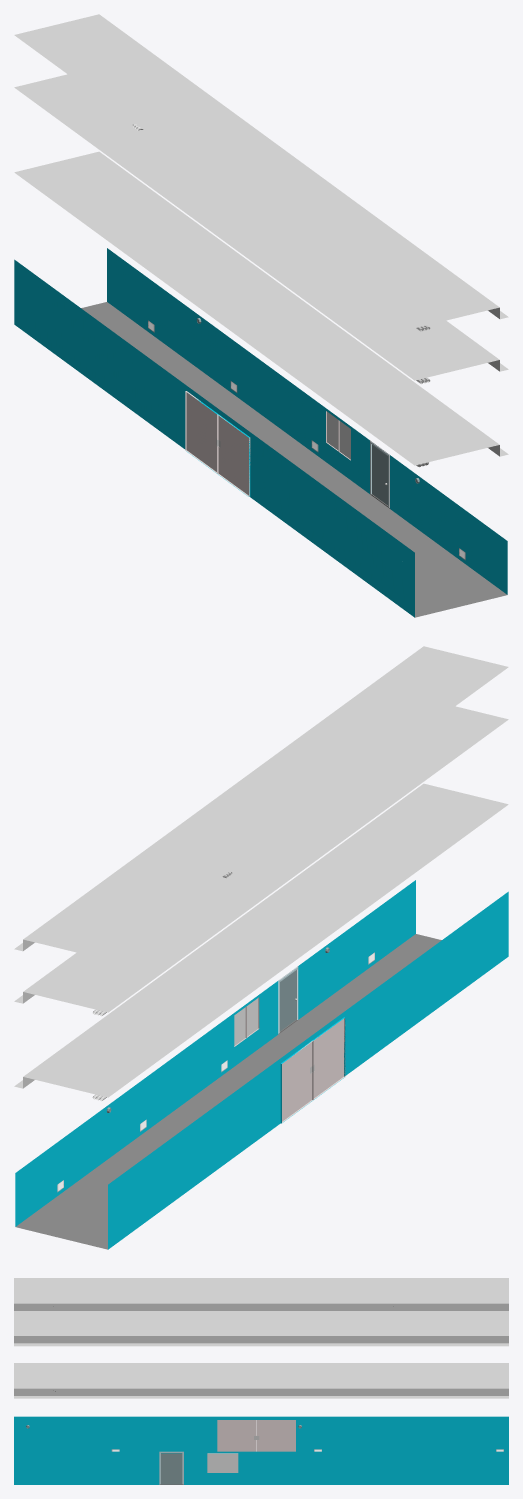
File: Corredor1 (1).fbx
The picture shows the model from 3 angles, top to bottom: view 1: azimuth 30°, elevation 25°; view 2: azimuth 150°, elevation 25°; view 3: azimuth 270°, elevation 25°; orthographic projection. The views are drawn at different scales.
Visible parts, largest first — view 1: paredes, TetoFinal, TetoComeco, TetoMeio, Chao, porta; view 2: paredes, TetoComeco, TetoFinal, TetoMeio, Chao, porta; view 3: paredes, TetoComeco, TetoFinal, TetoMeio, porta.
Boxes of the visible parts, x1,y1,x2,y2 form: paredes: (14, 248, 507, 617); TetoFinal: (14, 14, 508, 328); TetoComeco: (14, 151, 508, 465); TetoMeio: (14, 74, 508, 380); Chao: (81, 302, 506, 617); porta: (372, 445, 388, 505); paredes: (15, 880, 508, 1249); TetoComeco: (14, 783, 508, 1097); TetoFinal: (14, 646, 508, 960); TetoMeio: (14, 706, 508, 1012); Chao: (16, 934, 441, 1249); porta: (280, 970, 296, 1031); paredes: (14, 1416, 508, 1484); TetoComeco: (14, 1363, 508, 1398); TetoFinal: (14, 1278, 508, 1313); TetoMeio: (14, 1314, 508, 1346); porta: (161, 1453, 182, 1484).
Bounding box in the file's own units: 258 × 747 × 1873.
